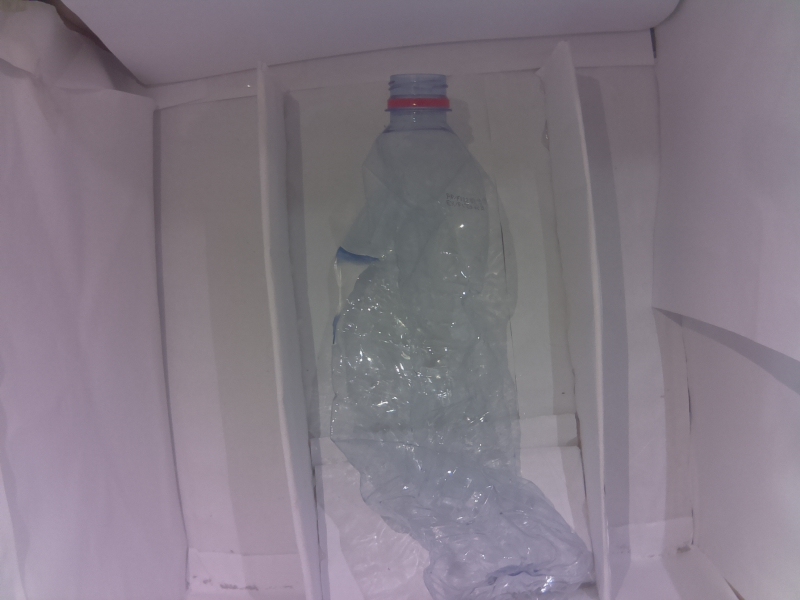botolplastik: (331, 75, 586, 600)
